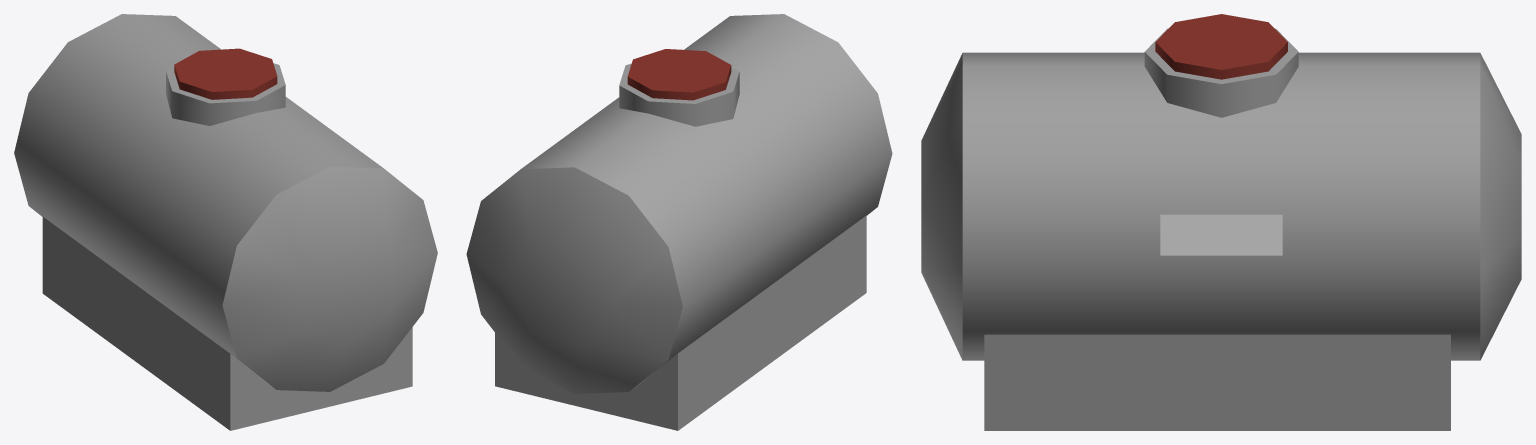
Rendered from Gas_Tank_2.fbx.
The picture shows the model from 3 angles, left to right: view 1: azimuth 30°, elevation 25°; view 2: azimuth 150°, elevation 25°; view 3: azimuth 270°, elevation 25°; orthographic projection. The views are drawn at different scales.
Visible parts, largest first — view 1: Gas_Tank_2; view 2: Gas_Tank_2; view 3: Gas_Tank_2.
Boxes of the visible parts, x1,y1,x2,y2 form: Gas_Tank_2: (14,14,437,430); Gas_Tank_2: (466,14,892,430); Gas_Tank_2: (921,14,1521,430).
Bounding box in the file's own units: 1.18 × 1.41 × 2.3.
